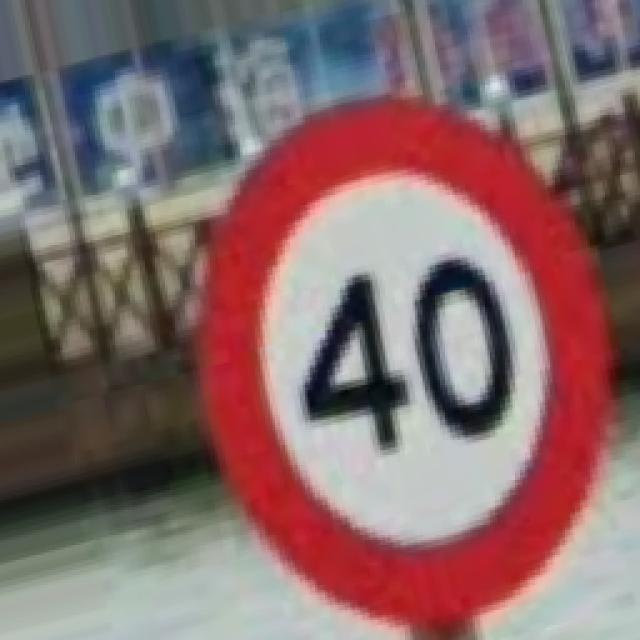Speed Limit -40-: (198, 95, 610, 635)
